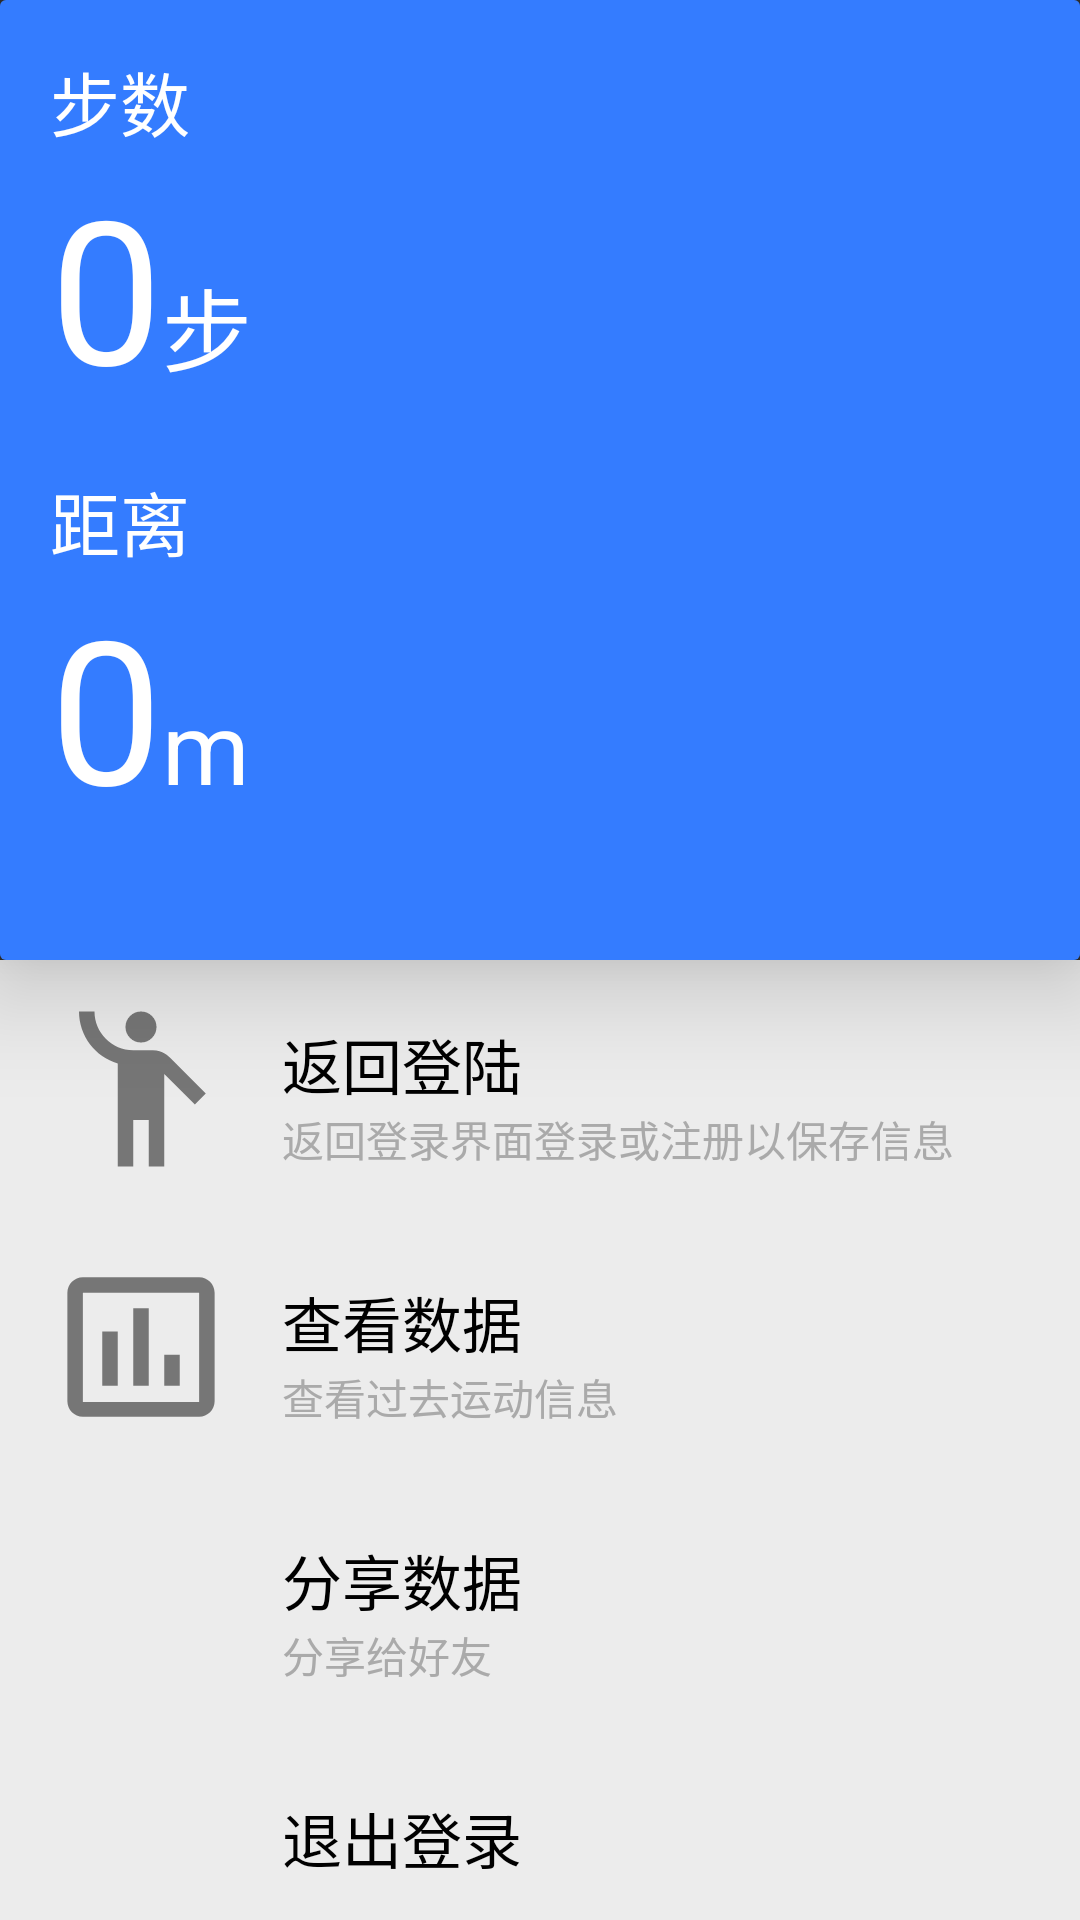

Icon click points for this 1080×1920 phone screenshot, format point (x, y):
emoji people: point (142, 1089)
insert chart: point (141, 1347)
